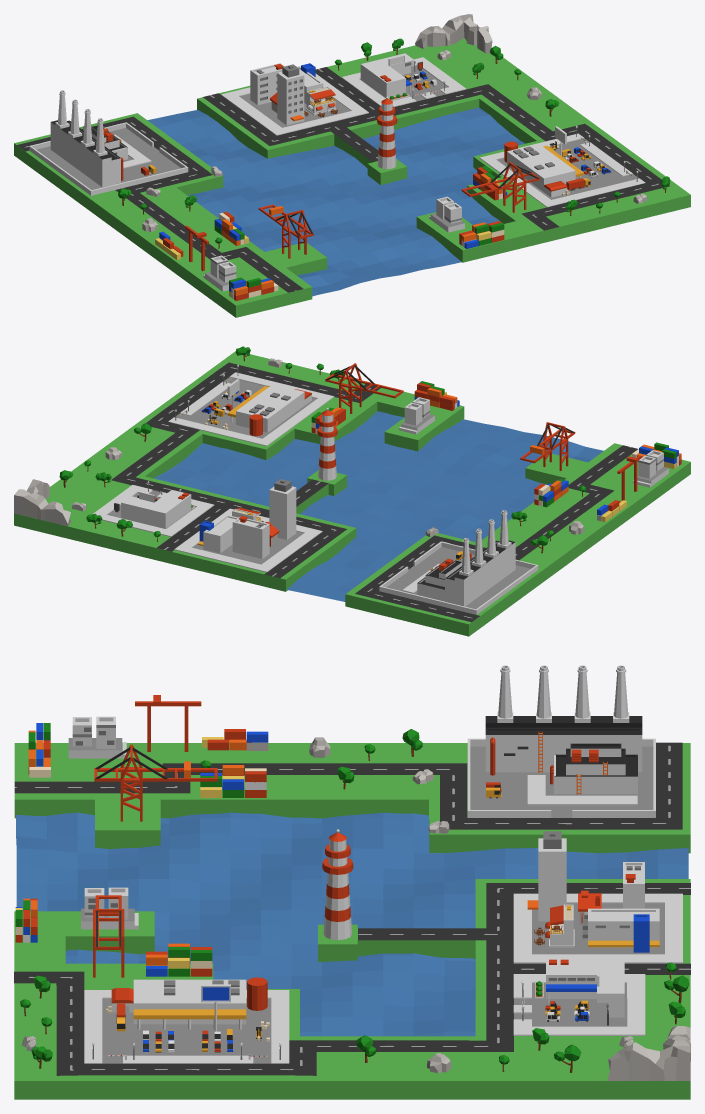
Rendered from mapa_geral.fbx.
3 views of the same model, one above another, from view 1: azimuth 30°, elevation 25°; view 2: azimuth 150°, elevation 25°; view 3: azimuth 270°, elevation 25° (orthographic). The views are drawn at different scales.
Parts seen in each view (by area): view 1: mar_triangulo, base.001, base, Plane.012, Cube.014, Cube, Cube.018, Plane.002, calcada, Cube.006, Cube.036, Plane.004 (+13 smaller); view 2: mar_triangulo, base.001, base, Plane.012, Cube.018, Cube.014, Cube, Cube.036, calcada, Plane.002, Plane.004, Cube.006 (+13 smaller); view 3: mar_triangulo, base.001, base, Plane.012, Cube.014, Plane.001, Cube, Plane.002, calcada, Cube.018, Cube.020, Cube.036 (+19 smaller).
Boxes of the visible parts, box(x1,y1,x2,y2) form: mar_triangulo: box(147, 107, 524, 296); base.001: box(197, 38, 690, 262); base: box(14, 113, 327, 317); Plane.012: box(17, 67, 669, 292); Cube.014: box(50, 120, 120, 187); Cube: box(507, 143, 583, 197); Cube.018: box(479, 133, 645, 207); Plane.002: box(36, 128, 180, 189); calcada: box(221, 73, 368, 135); Cube.006: box(415, 14, 492, 53); Cube.036: box(360, 53, 414, 97); Plane.004: box(29, 122, 188, 195); mar_triangulo: box(154, 411, 603, 601); base.001: box(14, 351, 464, 591); base: box(345, 443, 690, 636); Plane.012: box(111, 362, 637, 622); Cube.018: box(168, 372, 334, 446); Cube.014: box(445, 540, 515, 606); Cube: box(227, 384, 311, 432); Cube.036: box(121, 490, 191, 528); calcada: box(174, 508, 322, 572); Plane.002: box(386, 547, 530, 609); Plane.004: box(379, 541, 538, 614); Cube.006: box(14, 479, 71, 526); mar_triangulo: box(16, 812, 688, 1036); base.001: box(14, 879, 690, 1099); base: box(14, 743, 690, 853); Plane.012: box(14, 742, 690, 1075); Cube.014: box(485, 716, 642, 772); Plane.001: box(102, 998, 271, 1063); Cube: box(111, 979, 246, 1024); Plane.002: box(470, 746, 653, 817); calcada: box(513, 893, 682, 963); Cube.018: box(84, 990, 289, 1063); Cube.020: box(553, 743, 637, 793); Cube.036: box(546, 960, 624, 1017).
Size of the model in its own units: 19489 by 3316 by 16488.
